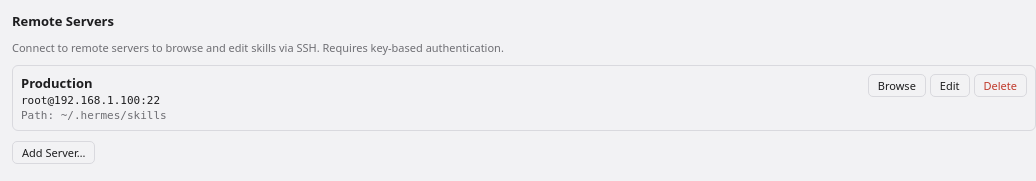
RemoteServersPanel (T16 part B) › deletes a server through DELETE /api/remote/servers/{id}
expect the text "Production" is shown: met, box [21,74,92,92]
Click the button with aria-label "Delete Production".
click(1000, 86)  # box [974,74,1027,97]
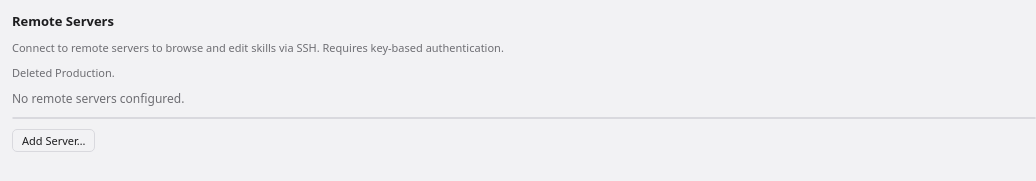
expect the text "Deleted Production." is shown: met, box [12,65,115,80]
